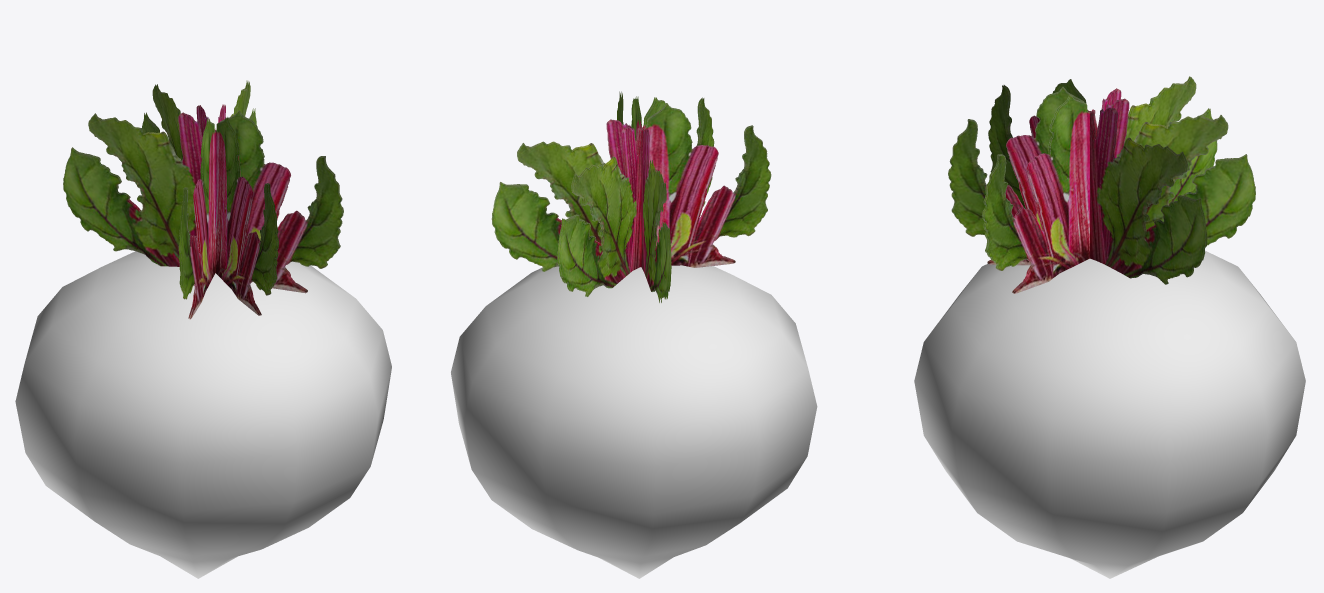
Rendered from Beetroot.fbx.
3 views of the same model, side by side, from view 1: azimuth 30°, elevation 25°; view 2: azimuth 150°, elevation 25°; view 3: azimuth 270°, elevation 25° (orthographic). The views are drawn at different scales.
Visible parts, largest first — view 1: Sphere.030, Beetroot_Leaves.002; view 2: Sphere.030, Beetroot_Leaves.002; view 3: Sphere.030, Beetroot_Leaves.002.
Boxes of the visible parts, x1,y1,x2,y2 form: Sphere.030: (15, 251, 391, 578); Beetroot_Leaves.002: (63, 80, 343, 319); Sphere.030: (451, 265, 817, 578); Beetroot_Leaves.002: (491, 91, 771, 302); Sphere.030: (914, 250, 1305, 578); Beetroot_Leaves.002: (948, 76, 1255, 293).
Bounding box in the file's own units: 127 × 185 × 146.
